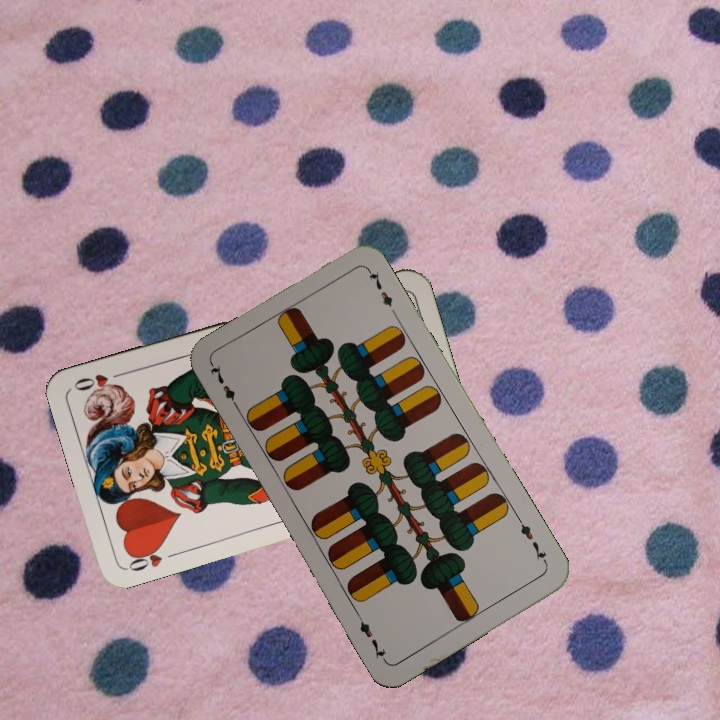E7: (206, 360, 243, 414), (514, 514, 550, 568)
HO: (123, 541, 181, 574)
